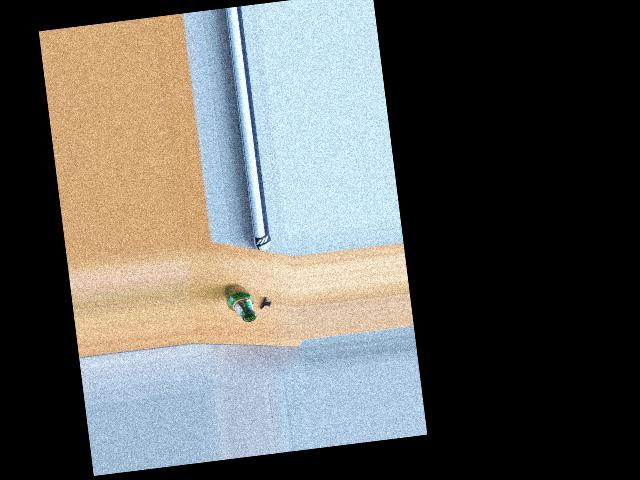beer: (223, 281, 256, 324)
